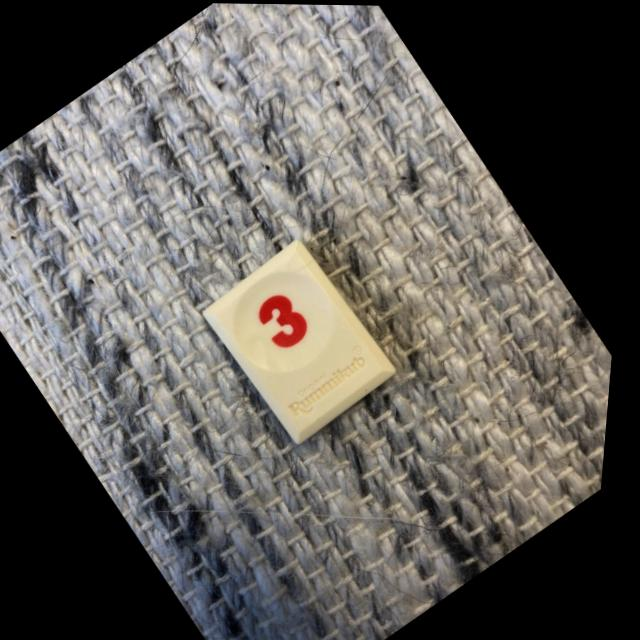red_3: (209, 239, 402, 442)
